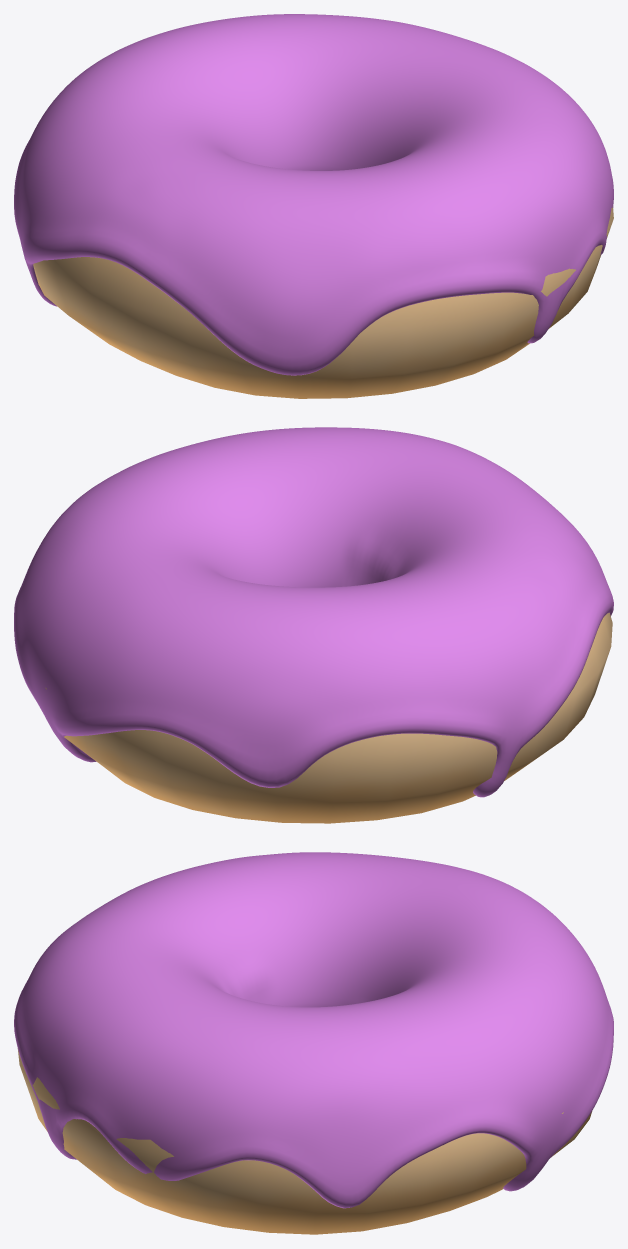
Rendered from donut.gltf.
3 views of the same model, one above another, from view 1: azimuth 30°, elevation 25°; view 2: azimuth 150°, elevation 25°; view 3: azimuth 270°, elevation 25° (orthographic).
Visible parts, largest first — view 1: icing, donut; view 2: icing, donut; view 3: icing, donut.
Part boxes in pixels (x1,y1,x2,y2): icing: (14, 14, 613, 375); donut: (33, 206, 613, 398); icing: (14, 427, 613, 797); donut: (45, 612, 612, 823); icing: (14, 852, 613, 1208); donut: (17, 1048, 592, 1234).
Size of the model in its own units: 1.35 by 0.527 by 1.34.
2 materials, 1 textured.
